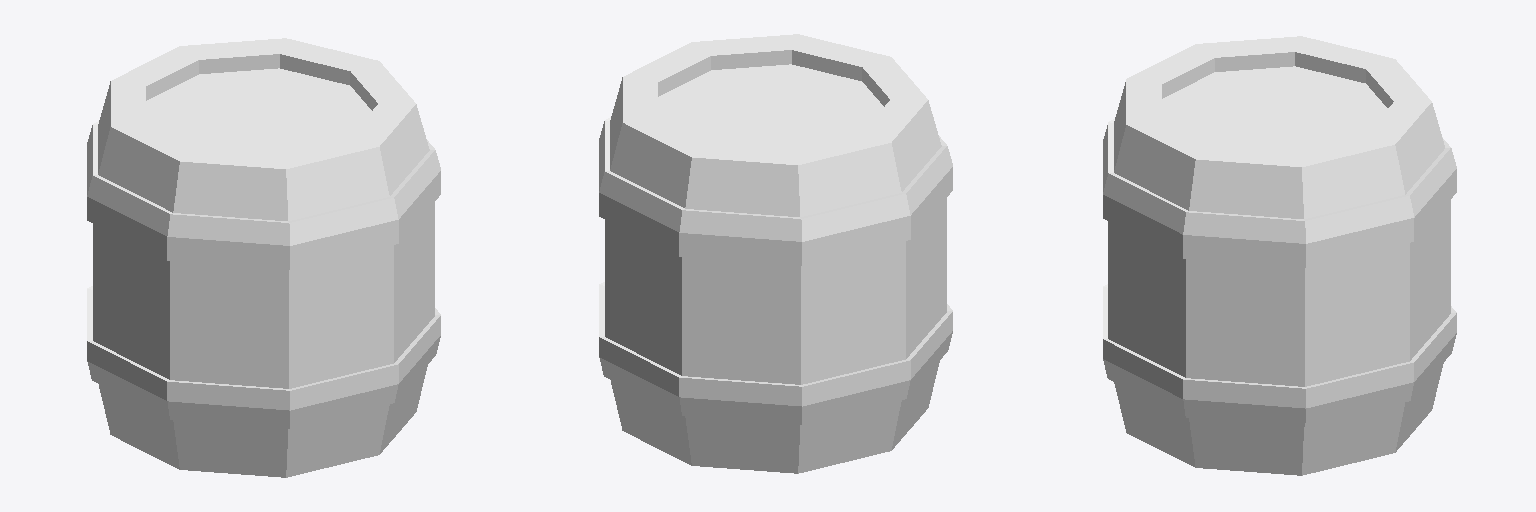
File: taru.obj
3 views of the same model, side by side, from view 1: azimuth 30°, elevation 25°; view 2: azimuth 150°, elevation 25°; view 3: azimuth 270°, elevation 25° (orthographic).
Visible parts, largest first — view 1: Cylinder; view 2: Cylinder; view 3: Cylinder.
Part boxes in pixels (left/top/right/bottom): Cylinder: left=87, top=38, right=440, bottom=477; Cylinder: left=599, top=34, right=952, bottom=473; Cylinder: left=1103, top=36, right=1456, bottom=475.
Size of the model in its own units: 2.04 by 1.93 by 2.